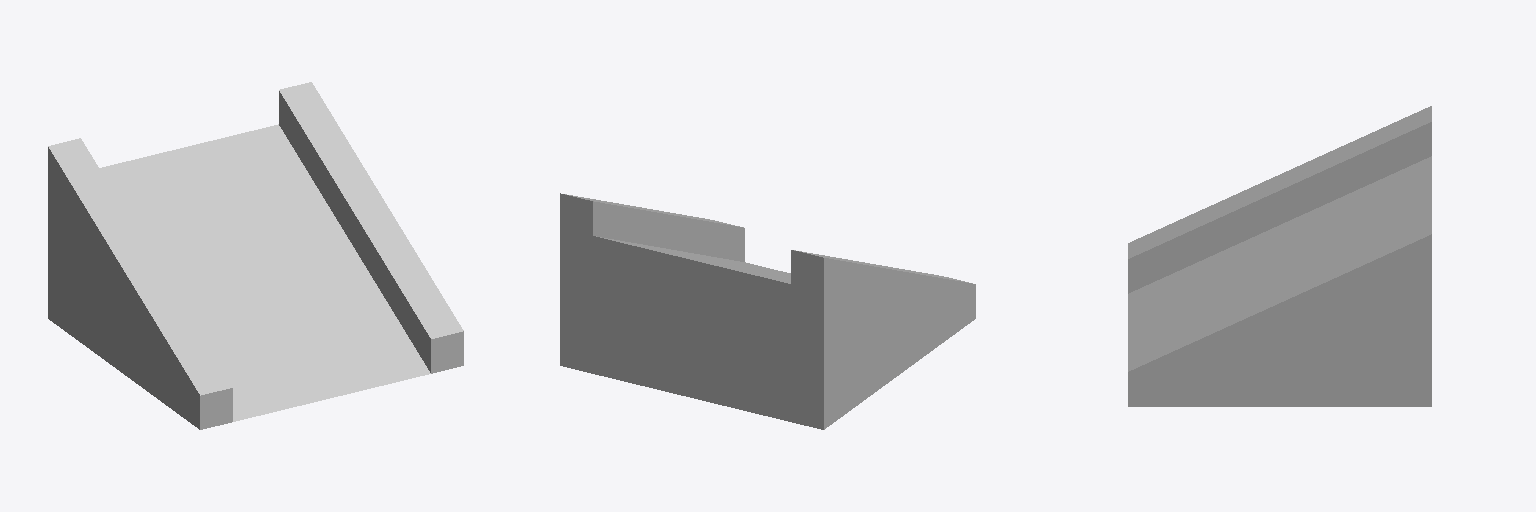
The model's file is Ramp.obj.
3 views of the same model, side by side, from view 1: azimuth 30°, elevation 25°; view 2: azimuth 150°, elevation 25°; view 3: azimuth 270°, elevation 25° (orthographic).
Parts seen in each view (by area): view 1: Ramp; view 2: Ramp; view 3: Ramp.
Part boxes in pixels (left/top/right/bottom): Ramp: left=48, top=82, right=463, bottom=429; Ramp: left=560, top=193, right=975, bottom=429; Ramp: left=1128, top=106, right=1431, bottom=406.
Bounding box in the file's own units: 8 × 5 × 8.